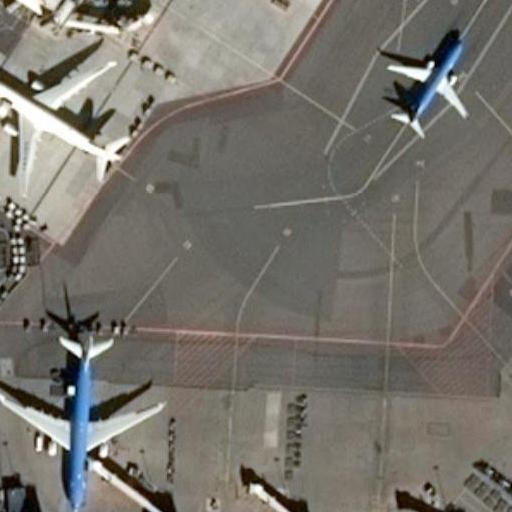Aircraft: (0, 323, 163, 505), (0, 44, 127, 187), (374, 28, 473, 138)
